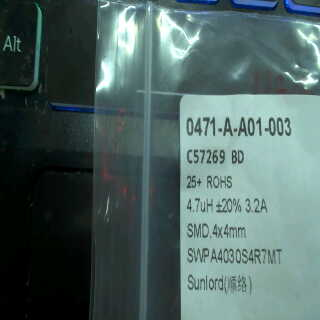4.7uH: (182, 193, 214, 218)
